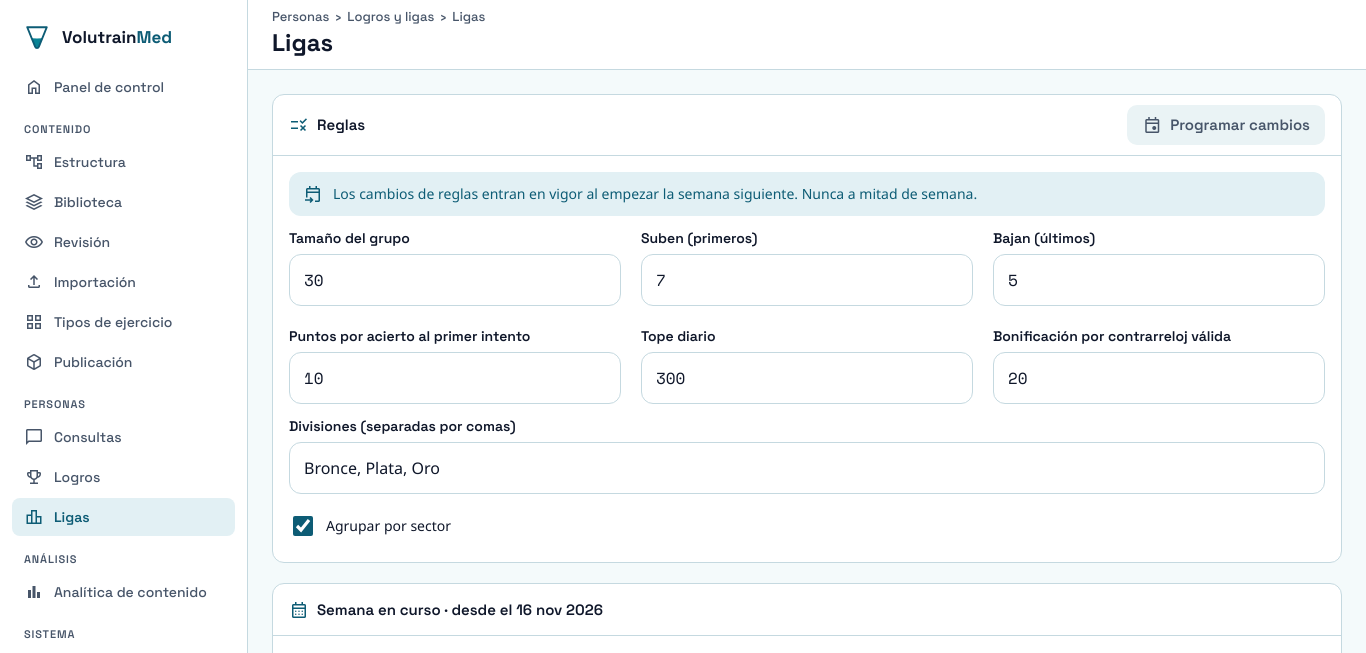
Test: B24 · ligas › Cambio del tope diario: cambiado un miércoles, el nuevo tope se aplica desde el lunes siguiente
Replace the text in the number field labelled "Tope diario" with "250". click: (807, 378)
box: [641,352,973,404]
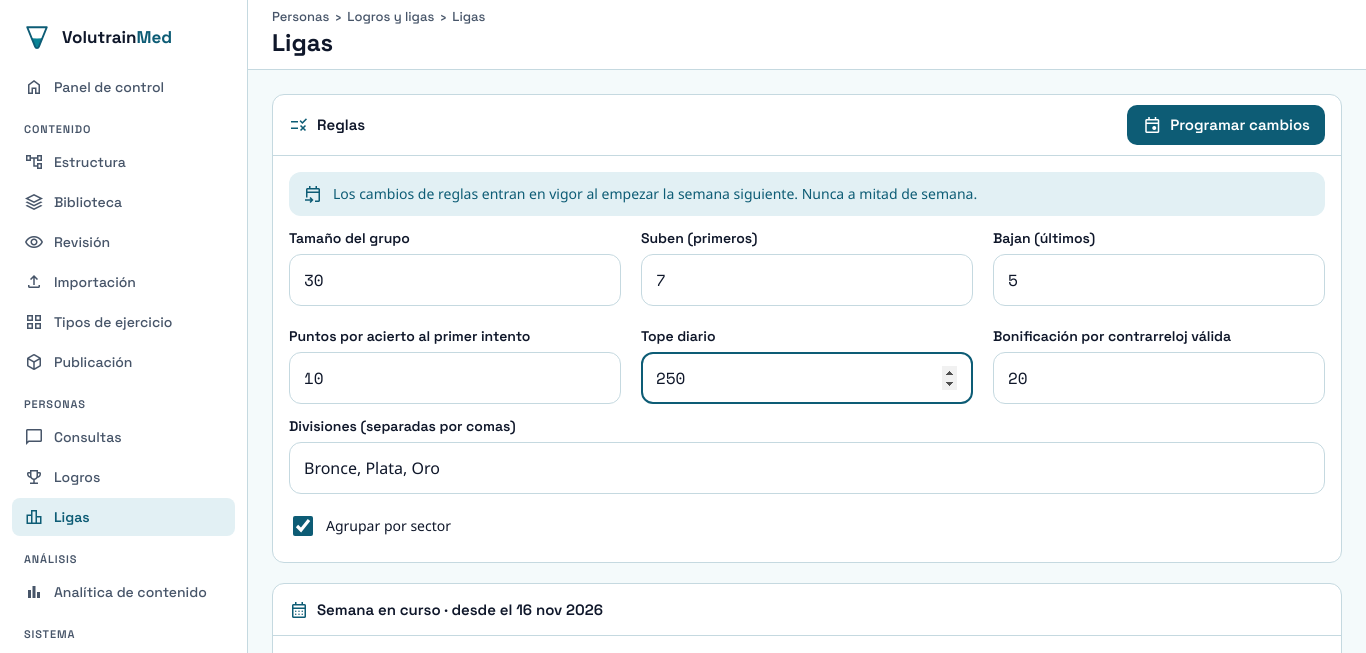
Click the button "Programar cambios". click: (1226, 125)
box: [1127,105,1325,145]
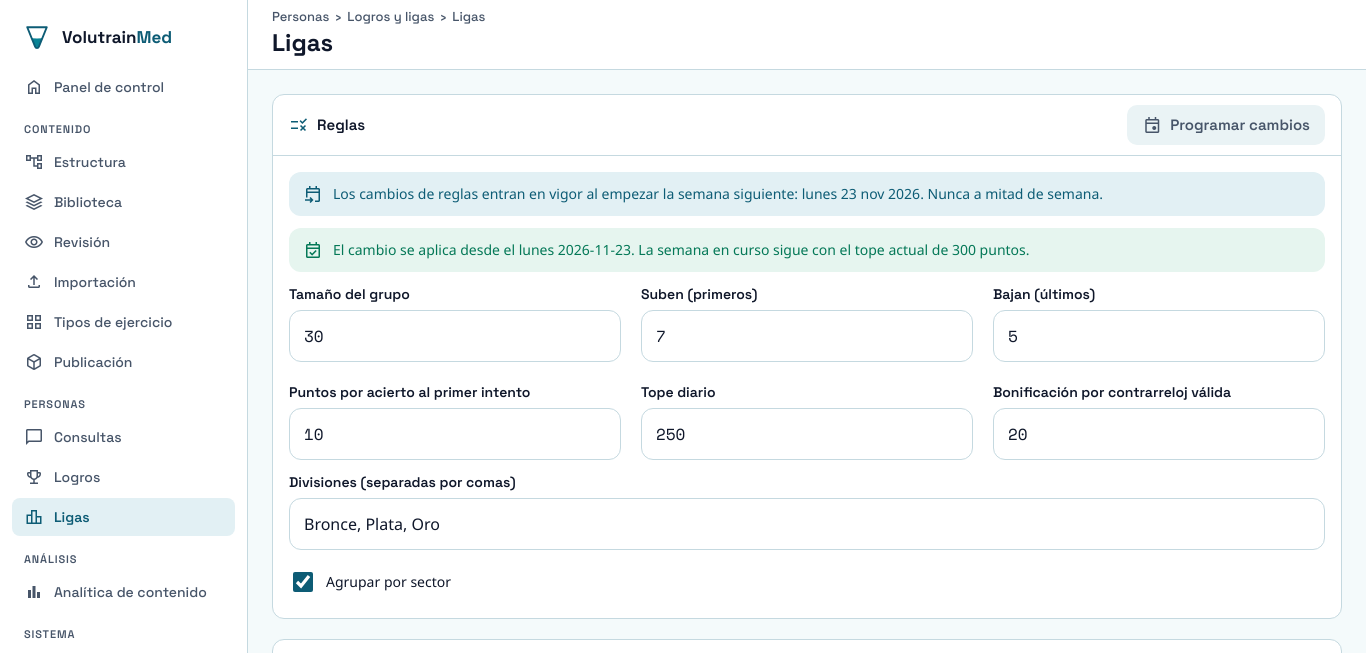
expect the text "El cambio se aplica desde el lunes 2026-11-23. La semana en curso sigue con el tope actual de 300 puntos" is shown: met, box [333,240,1030,259]
expect the text "entran en vigor al empezar la semana siguiente: lunes 23 nov 2026" is shown: met, box [333,184,1103,203]
